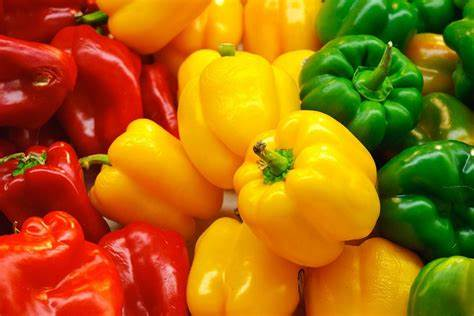Bell Pepper: (227, 103, 383, 274), (165, 35, 306, 192), (76, 110, 230, 244), (287, 18, 427, 148), (155, 197, 308, 315), (33, 15, 158, 156), (373, 122, 474, 265), (284, 228, 424, 316), (0, 130, 107, 241)
